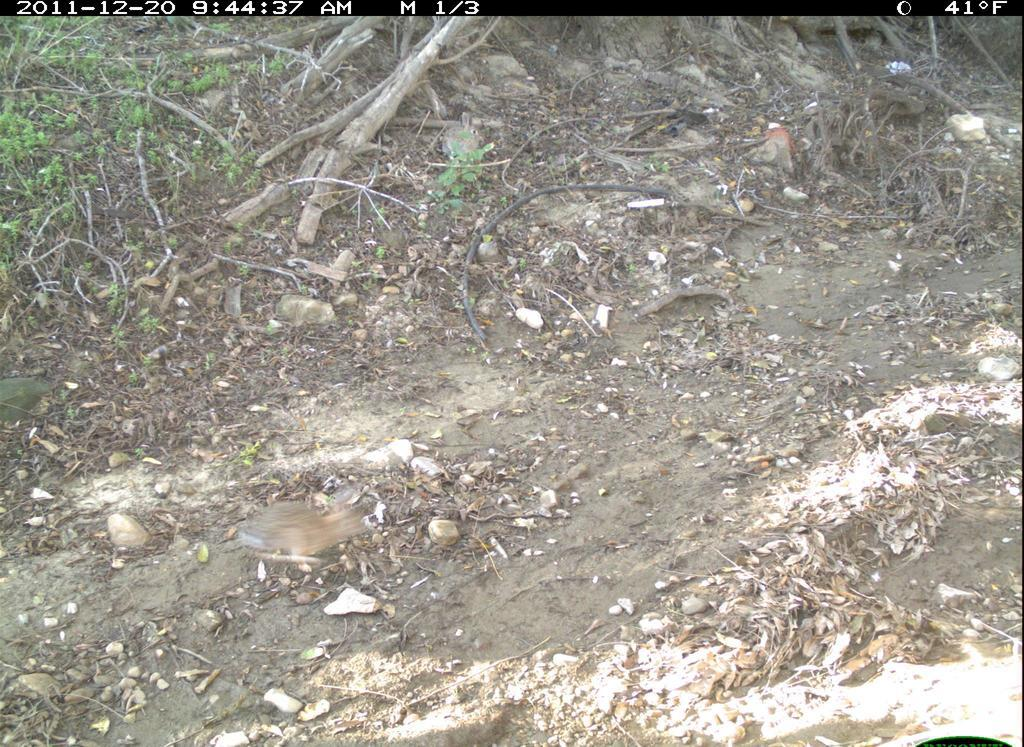rabbit: (236, 479, 404, 582)
